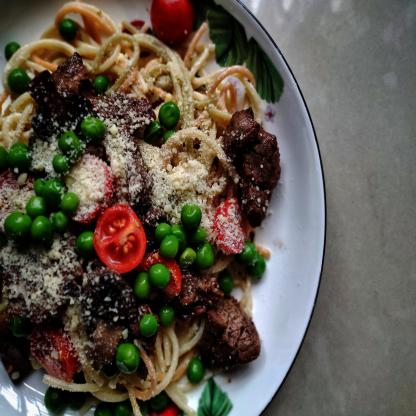Carne: (226, 111, 282, 224), (201, 296, 267, 365)
